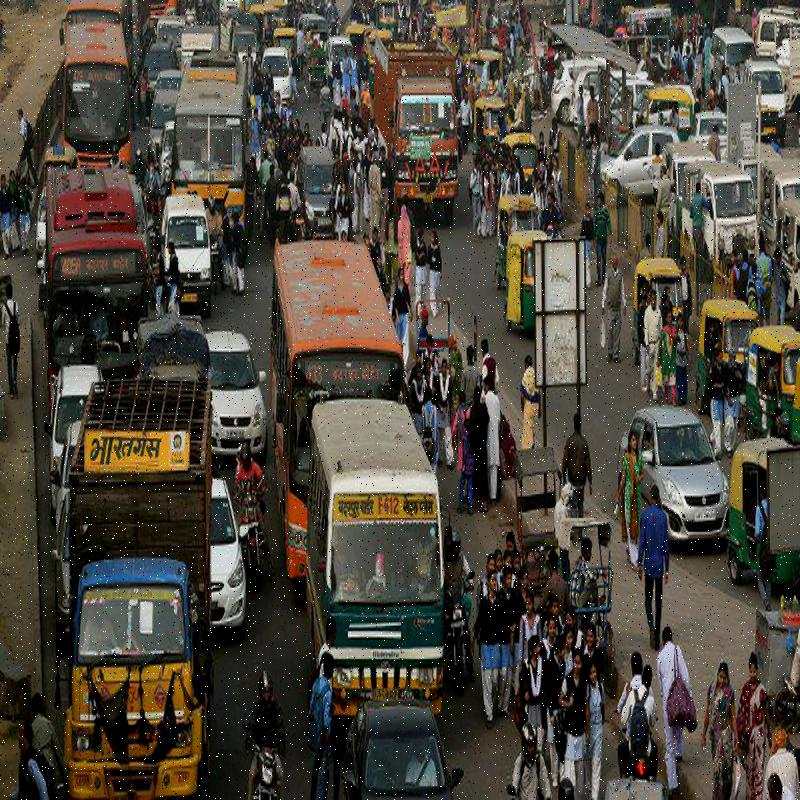auto: (731, 422, 800, 614), (622, 237, 698, 390), (694, 273, 764, 439), (496, 217, 562, 366), (738, 301, 800, 444)
car: (186, 297, 281, 463), (196, 476, 259, 623)
